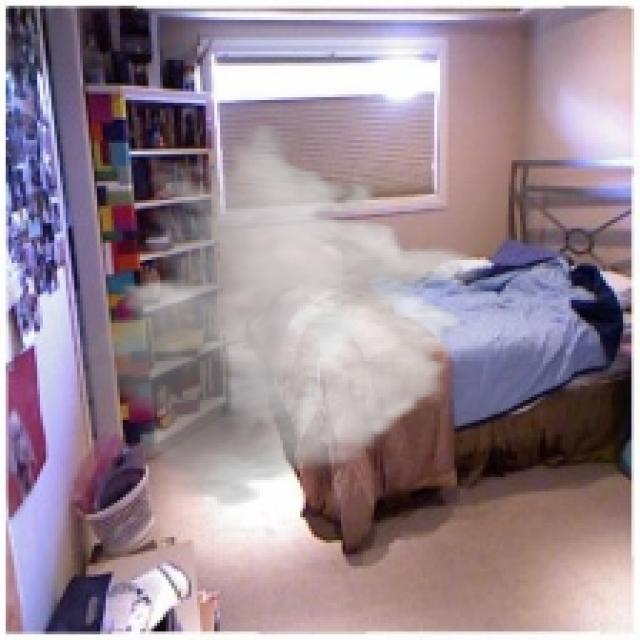smoke: (74, 120, 494, 509)
